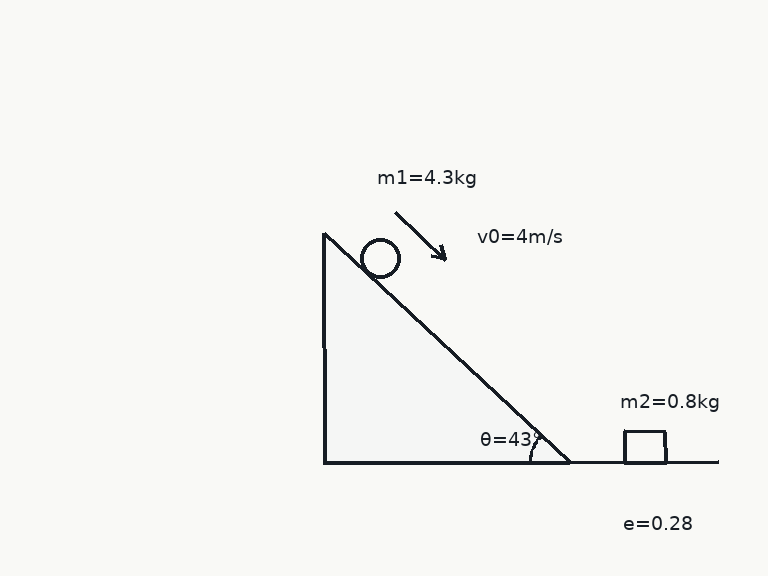ball: (358, 236, 402, 280)
block: (622, 429, 668, 464)
ramp: (322, 230, 572, 464)
